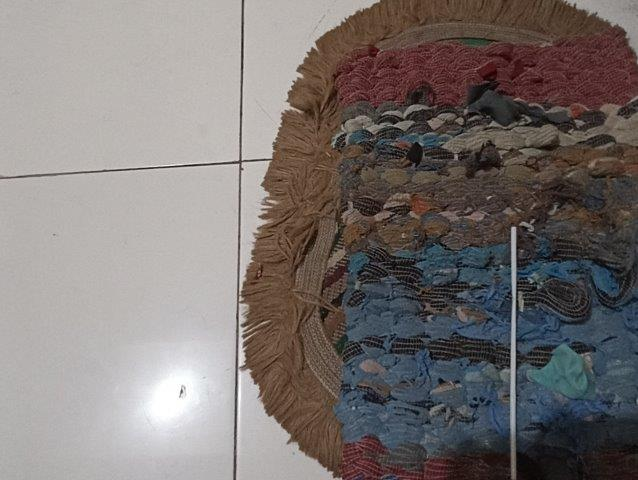sedotan: (510, 228, 518, 477)
